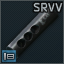AK-74 5.45x39 SRVV muzzle brake: (0, 0, 64, 64)
